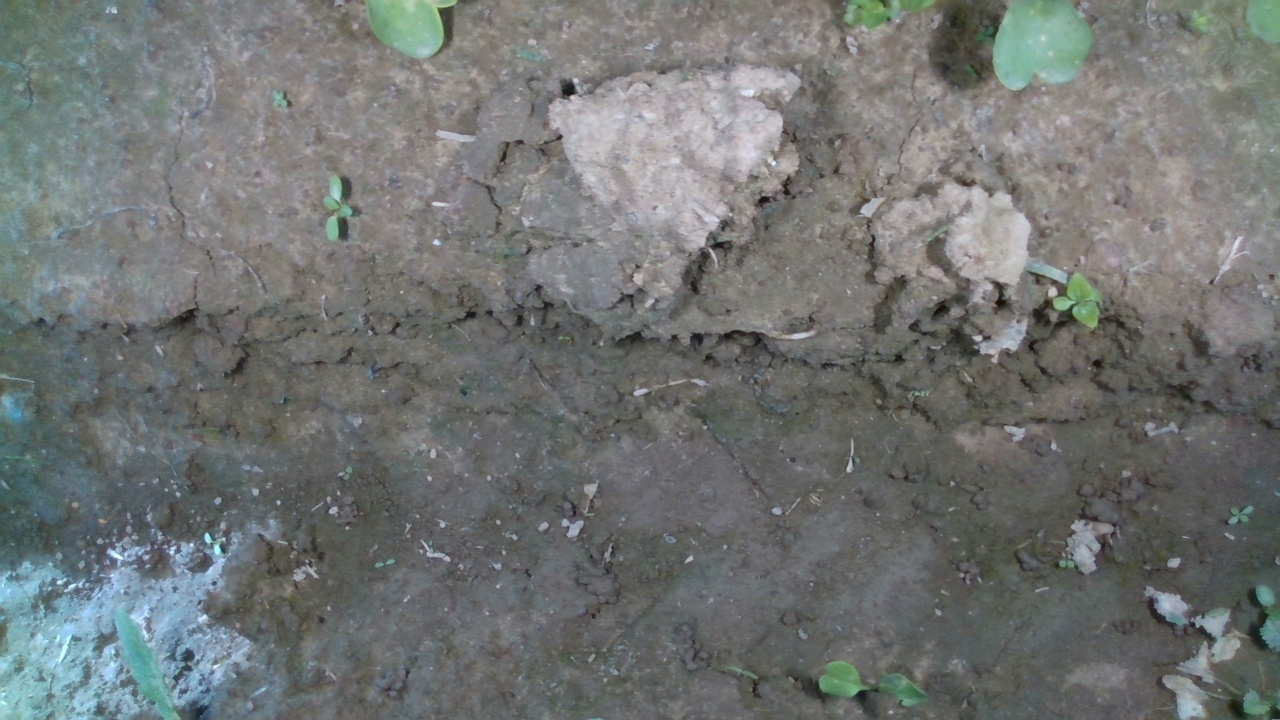weed: (1051, 266, 1107, 333), (322, 172, 352, 242), (1227, 503, 1255, 526), (268, 87, 290, 110), (1055, 557, 1077, 570)
